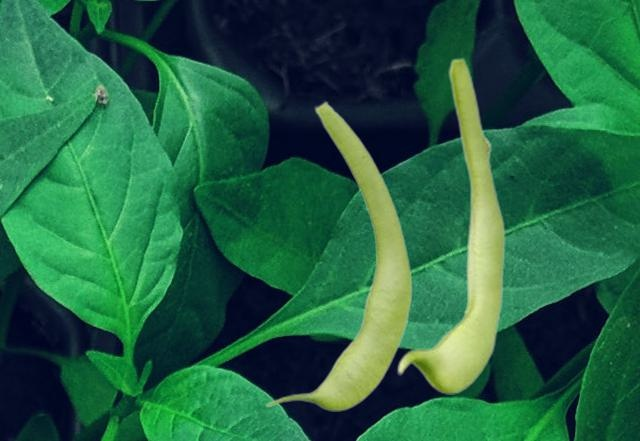french_bean: (264, 99, 412, 410), (396, 56, 504, 393)
